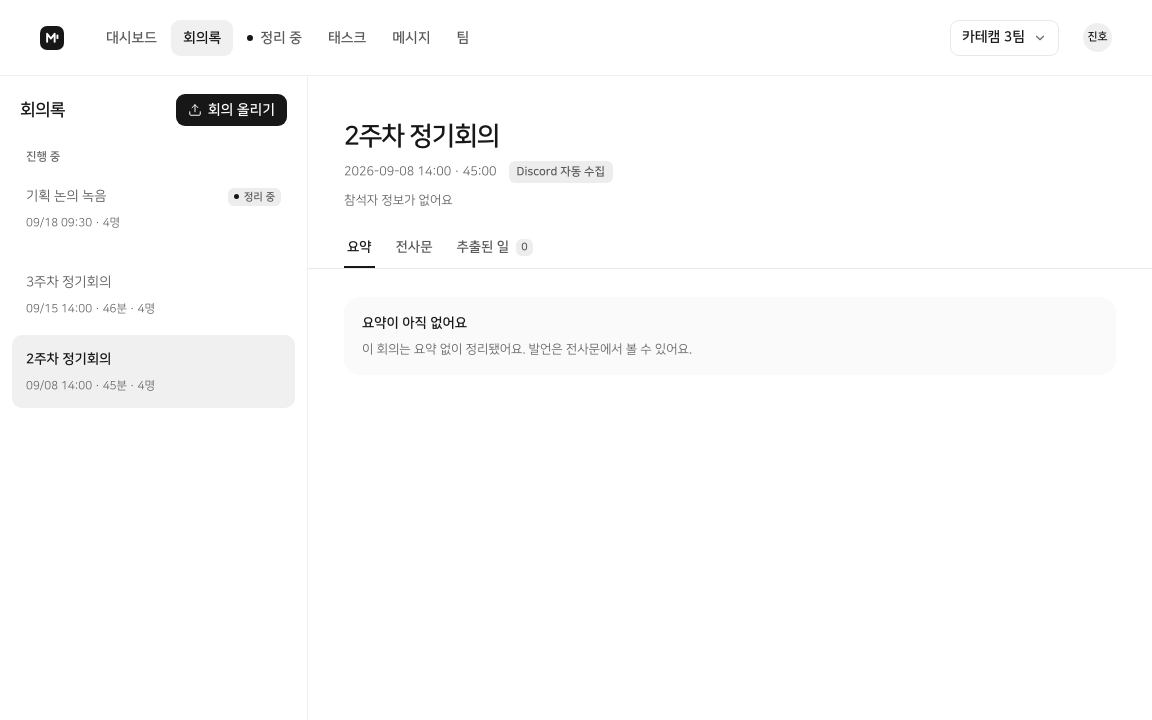
Test: 회의록 상세 (U5-3) › 요약 null · 빈 전사문 · 참석자 없음 · 추출 결과 없음은 각각 빈 상태다 — 추출 요청을 보내지 않는다
The width and height of the screenshot is (1152, 720).
Expected: the heading "2주차 정기회의" is shown, x1=344 y1=122 x2=499 y2=151
Expected: the text "참석자 정보가 없어요" is shown, x1=344 y1=193 x2=453 y2=207
Click the tab "전사문" at [414, 249], box x1=393 y1=230 x2=436 y2=268
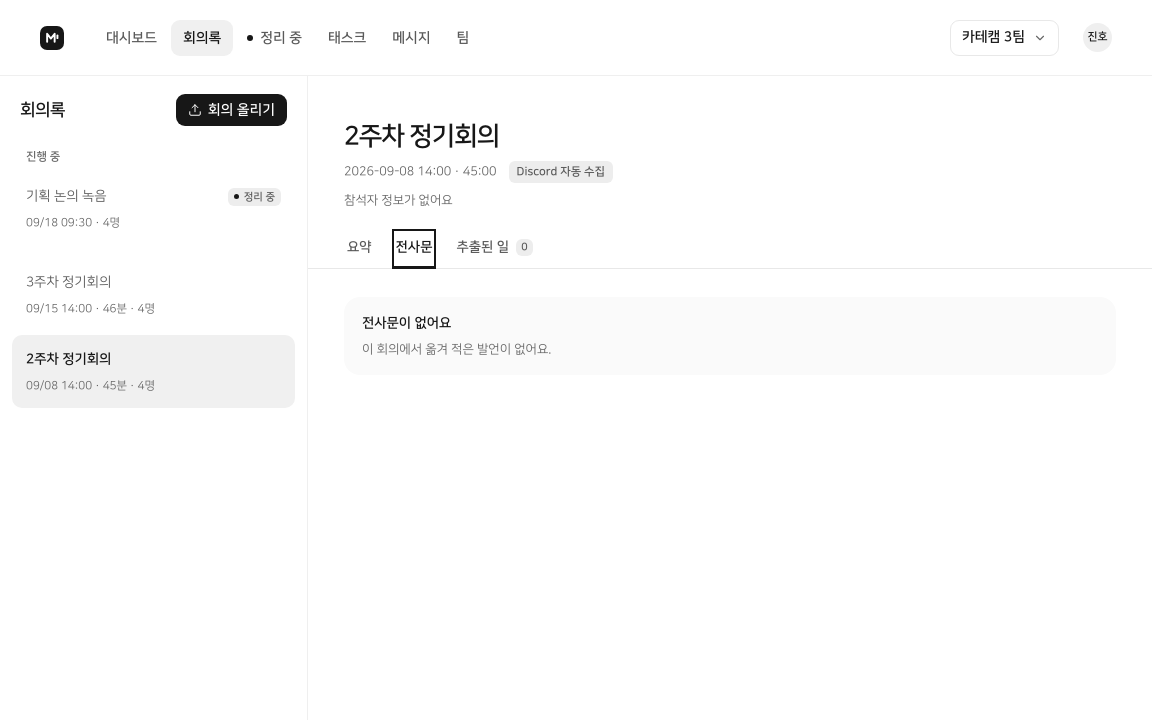
Expected: the text "전사문이 없어요" is shown, x1=362 y1=316 x2=451 y2=330
Click the tab "추출된 일 0" at [495, 249], box x1=453 y1=230 x2=536 y2=268
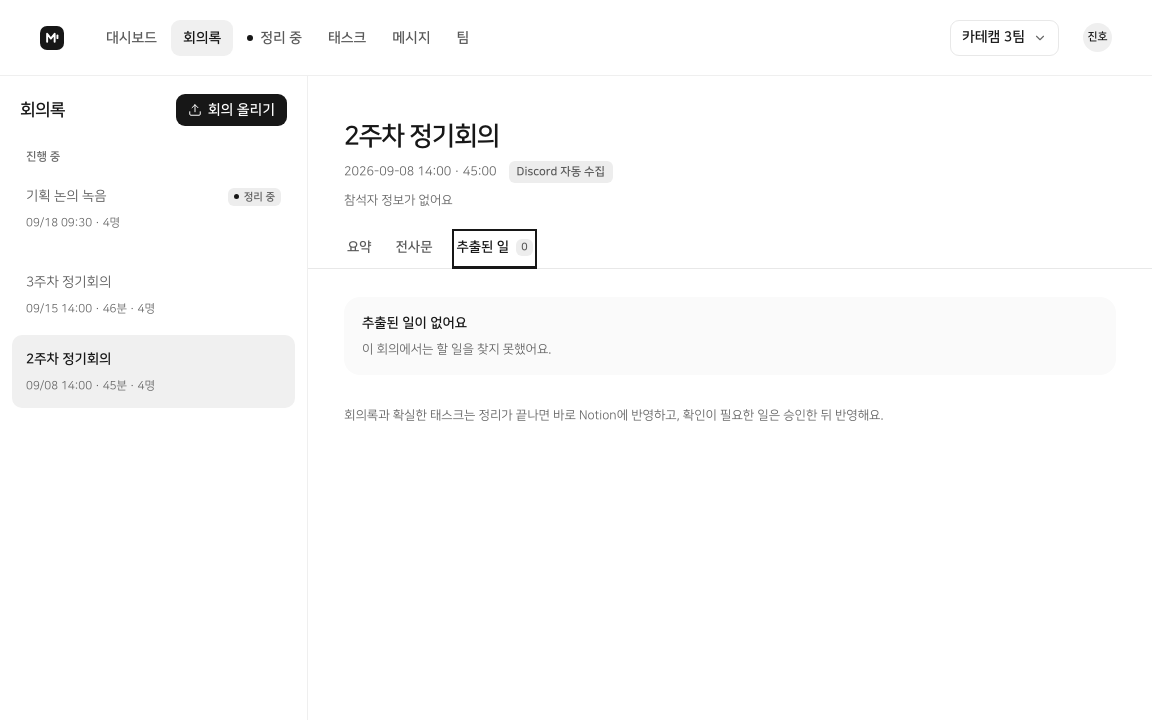
Expected: the text "추출된 일이 없어요" is shown, x1=362 y1=316 x2=467 y2=330
